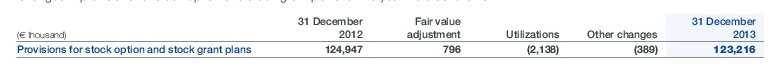table: (0, 0, 779, 73)
